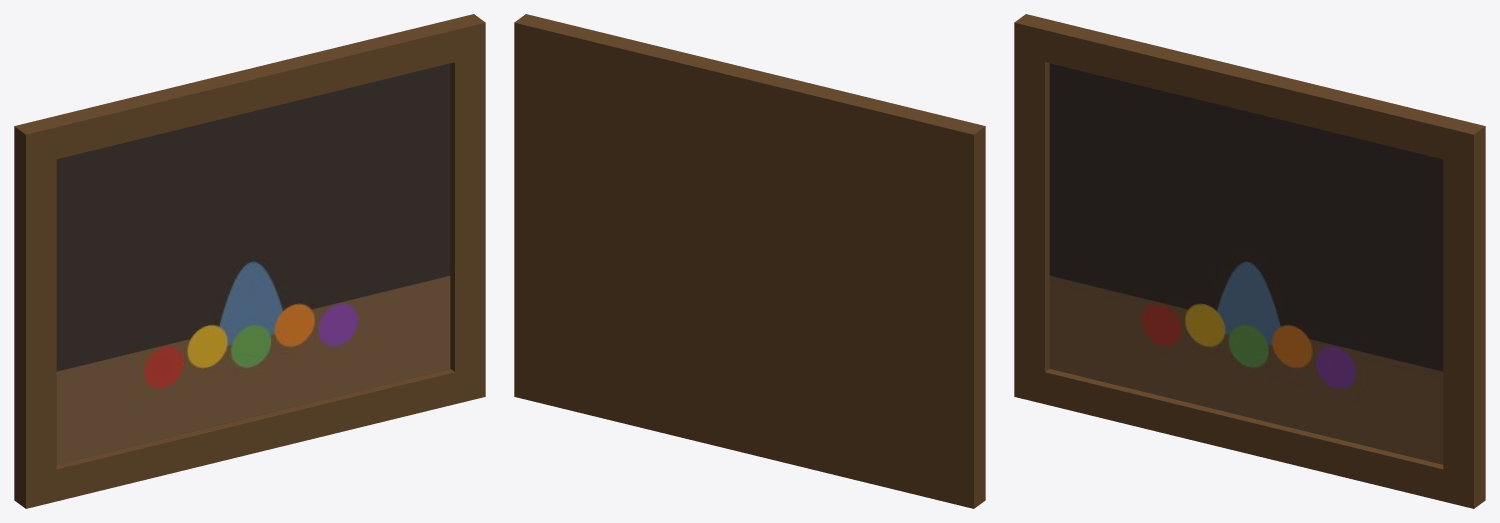
File: painting_still.glb
3 views of the same model, side by side, from view 1: azimuth 30°, elevation 25°; view 2: azimuth 150°, elevation 25°; view 3: azimuth 330°, elevation 25° (orthographic).
Parts seen in each view (by area): view 1: painting; view 2: painting; view 3: painting.
Boxes of the visible parts, x1=… form: painting: x1=14, y1=14, x2=485, y2=508; painting: x1=514, y1=14, x2=985, y2=508; painting: x1=1014, y1=14, x2=1485, y2=508.
Size of the model in its own units: 0.9 by 0.7 by 0.04.
2 materials, 1 textured.
